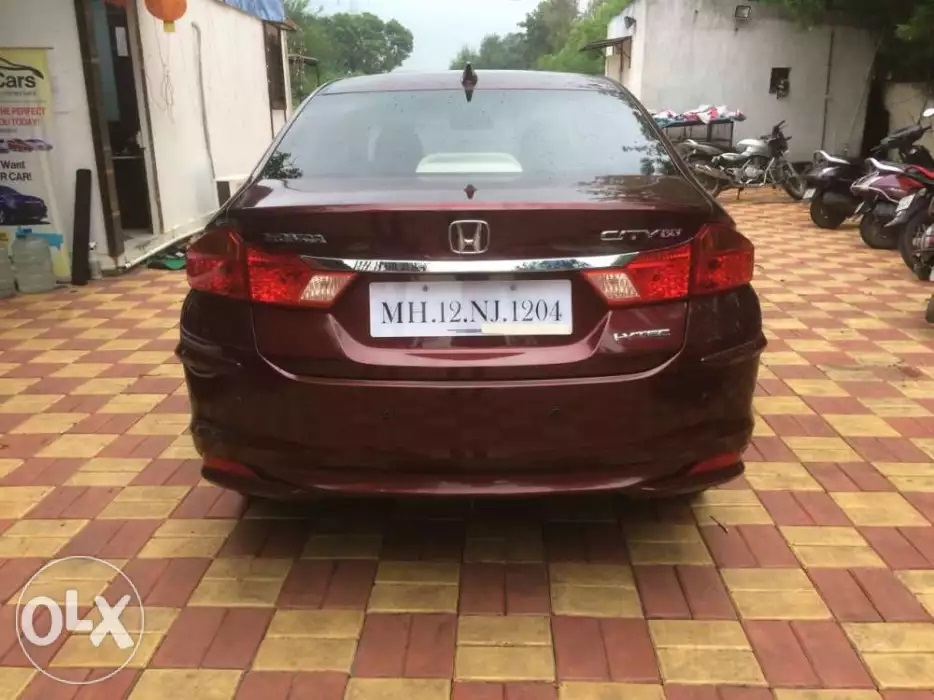licenseplate: (367, 275, 581, 340)
